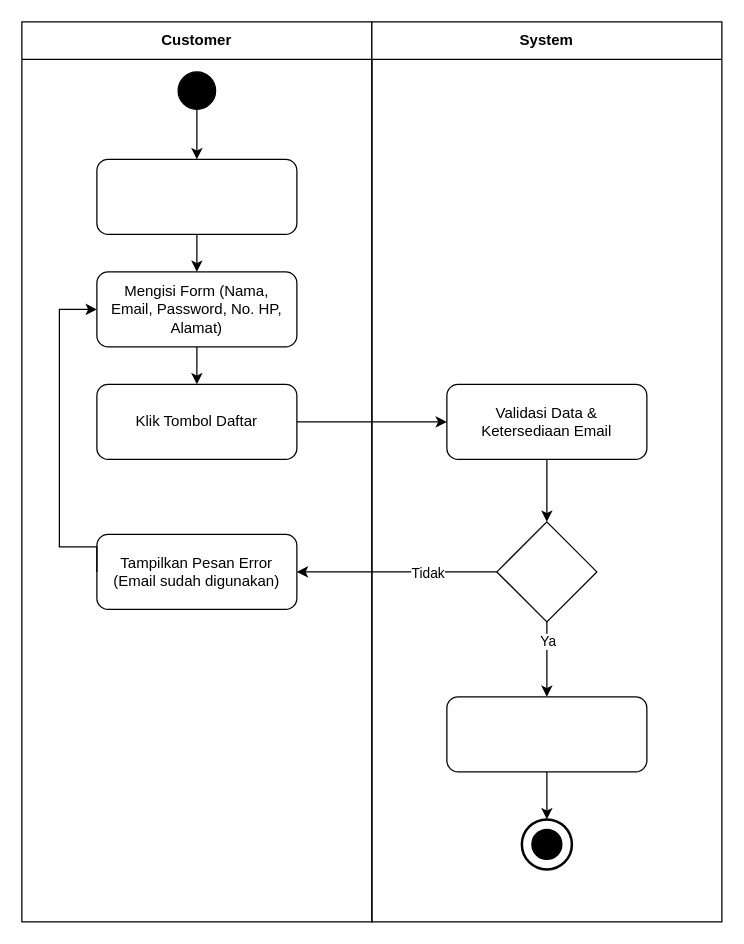
Some shapes in this 744 by 944 pixel diagram are drawn without their labels. Each missing label, with the centre of its shape:
"Mengakses Halaman Registrasi" goes at pixel 196 196.
"Simpan Data Pengguna & Tampilkan Notifikasi Sukses" goes at pixel 546 734.
"Valid?" goes at pixel 546 571.
